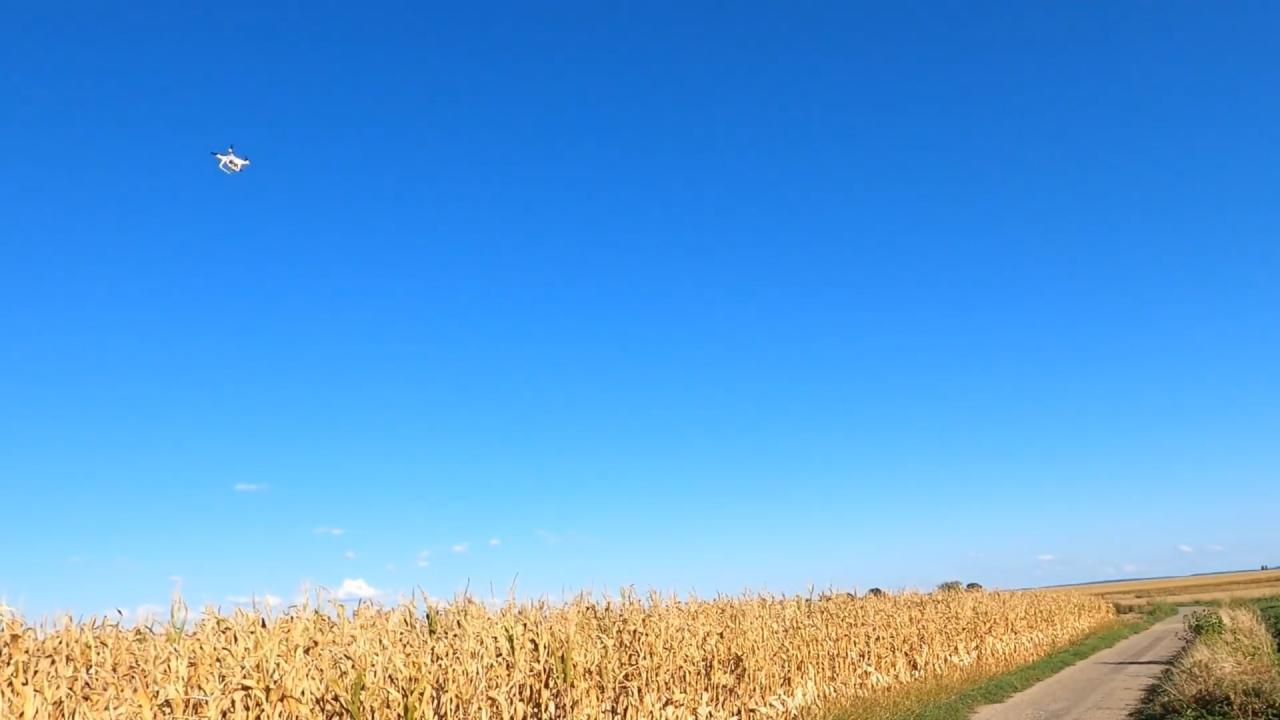Drone: (198, 132, 264, 190)
